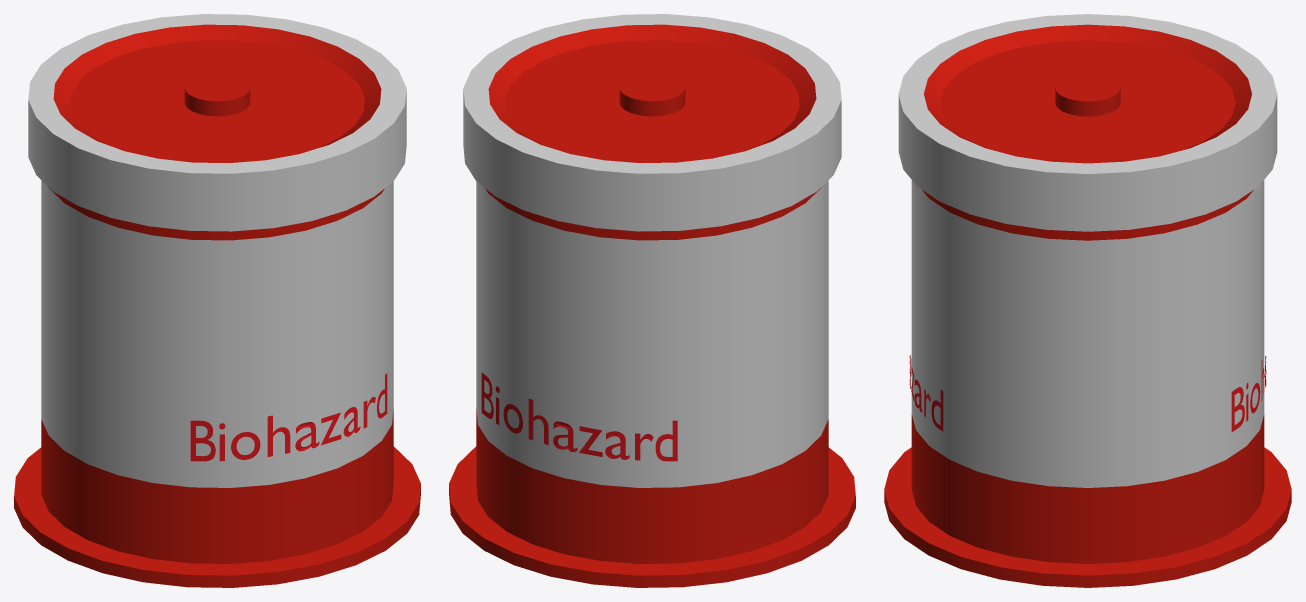
The model's file is biohazardBin.fbx.
The picture shows the model from 3 angles, left to right: view 1: azimuth 30°, elevation 25°; view 2: azimuth 150°, elevation 25°; view 3: azimuth 270°, elevation 25°; orthographic projection.
Parts seen in each view (by area): view 1: Biohazard Bin; view 2: Biohazard Bin; view 3: Biohazard Bin.
Part boxes in pixels (<box>): Biohazard Bin: <box>14,14,420,587</box>; Biohazard Bin: <box>449,14,855,587</box>; Biohazard Bin: <box>884,14,1291,587</box>.
Bounding box in the file's own units: 20.6 × 20.6 × 23.1.
